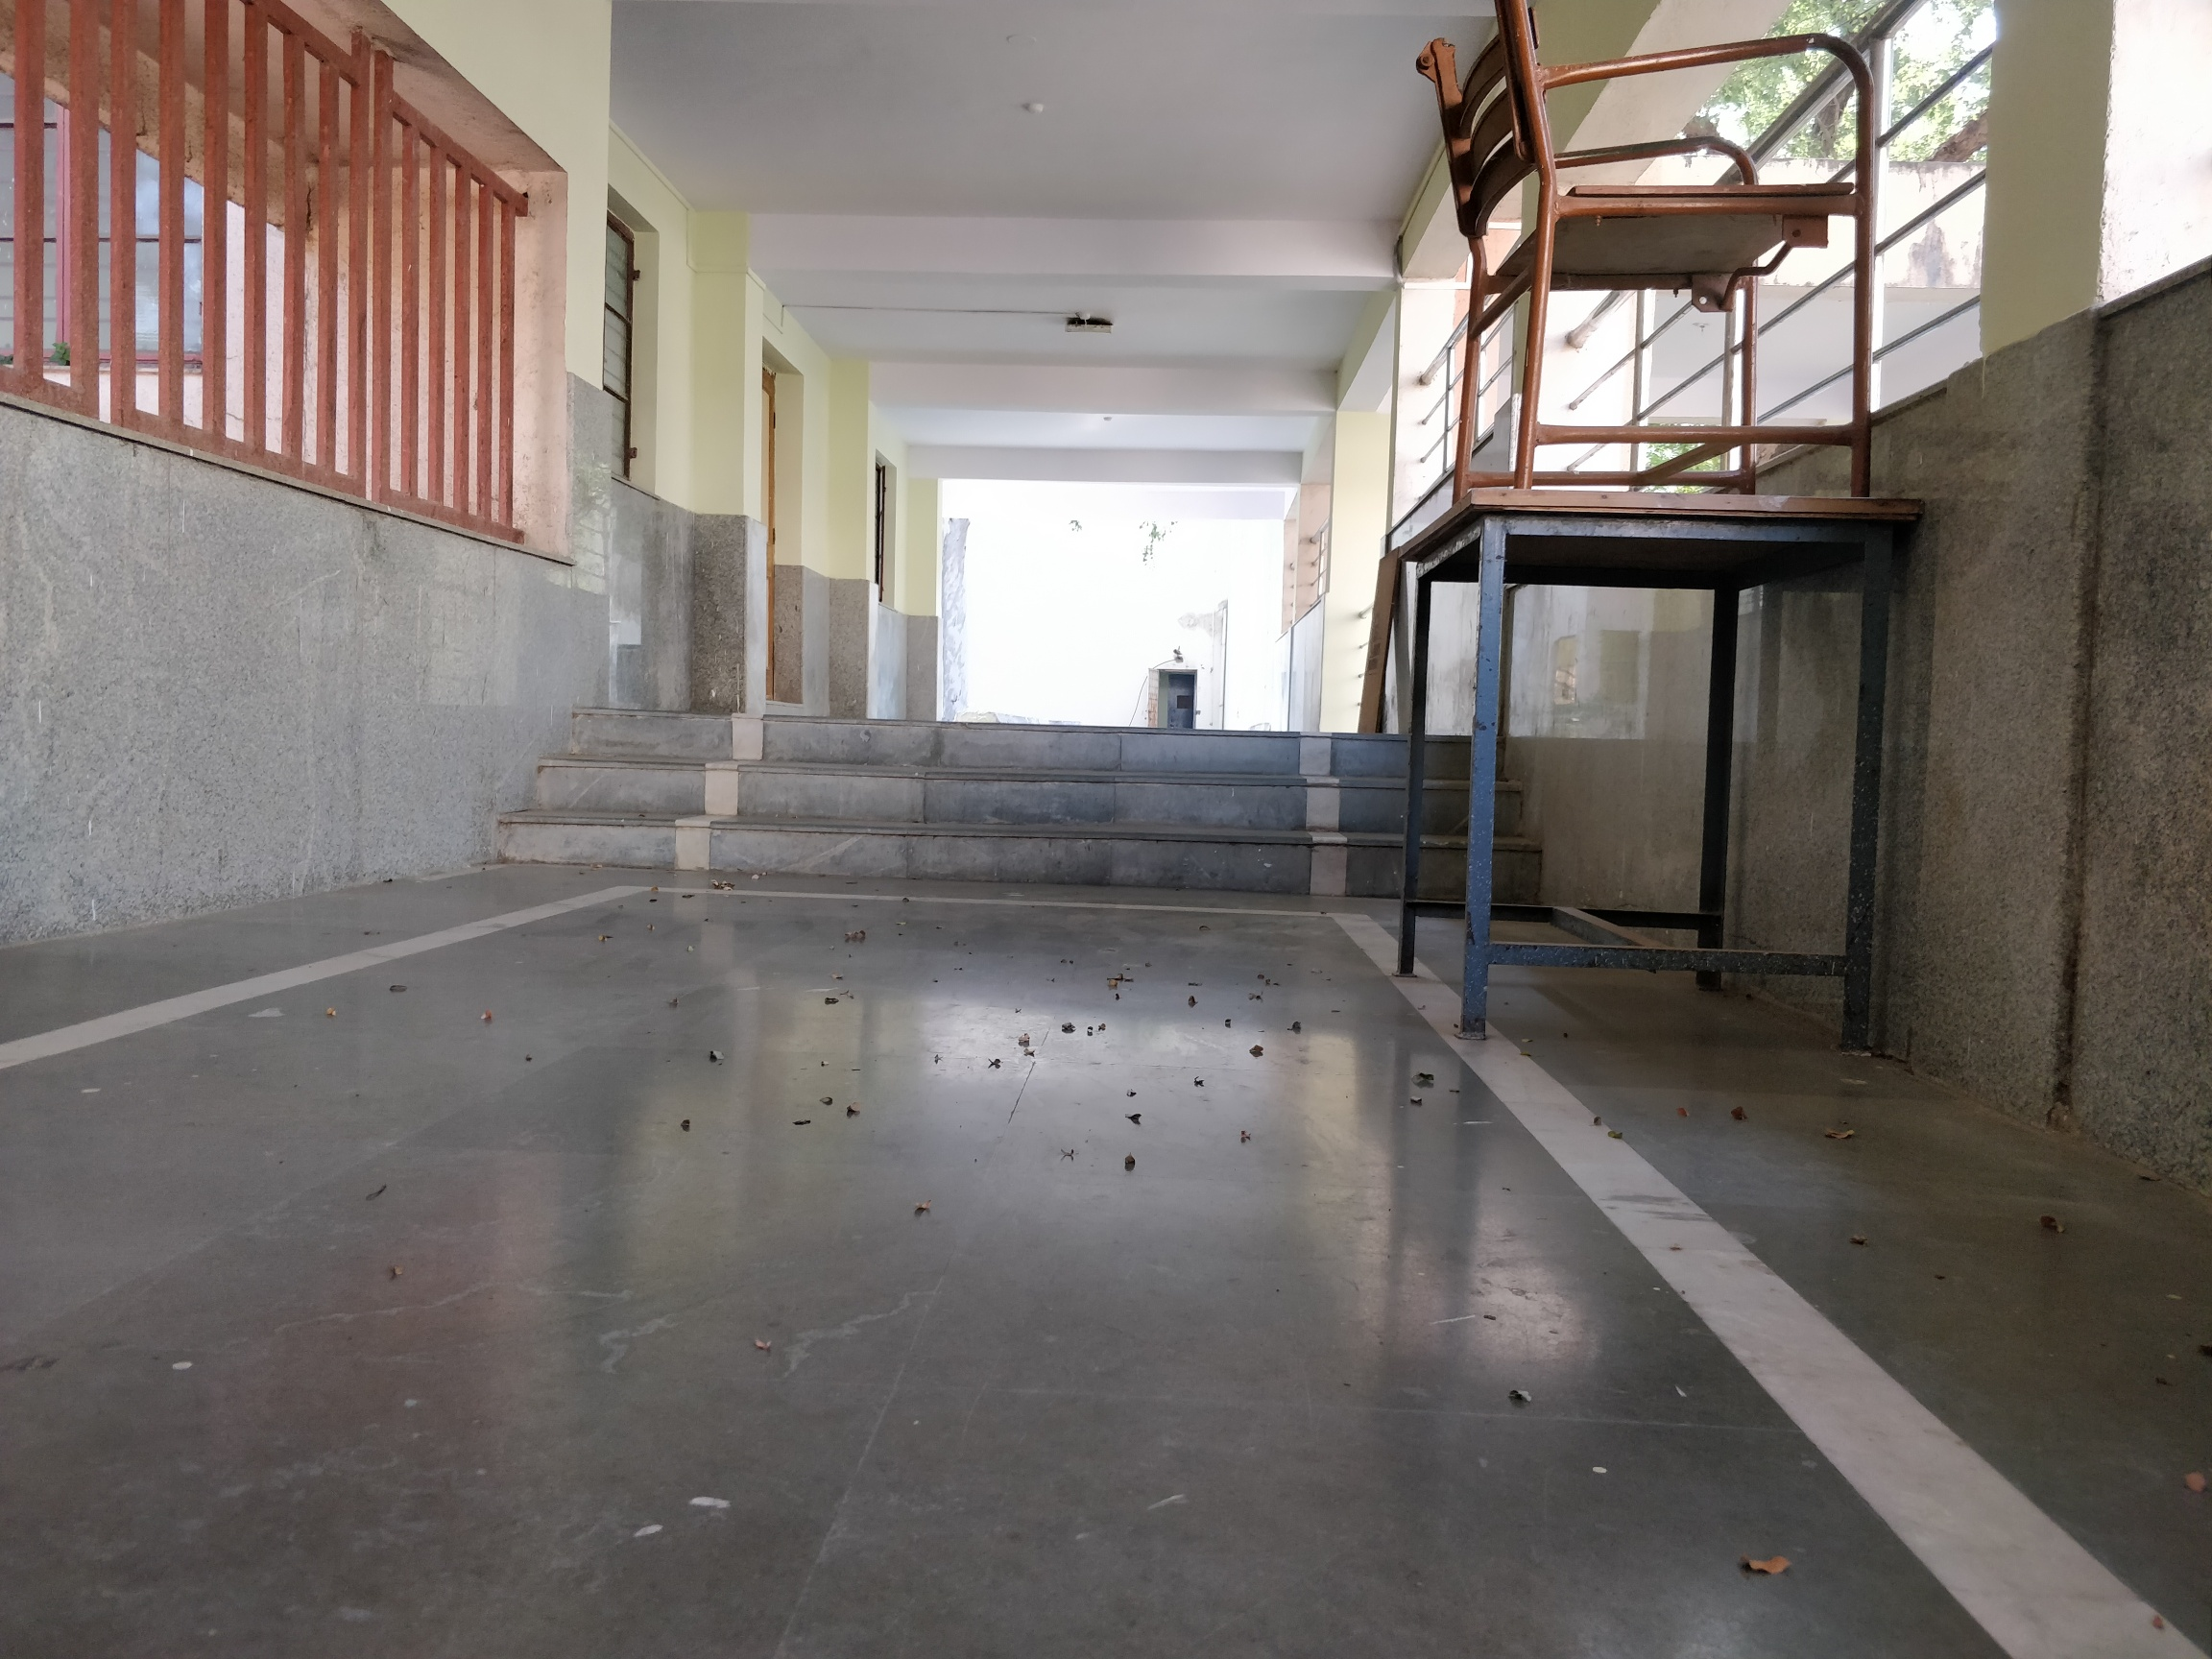stairs_up: (509, 699, 1543, 906)
